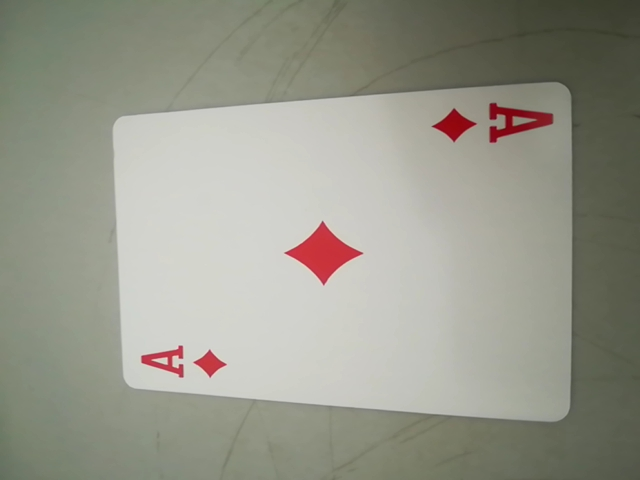fk a: (429, 95, 553, 151), (132, 334, 232, 386)
